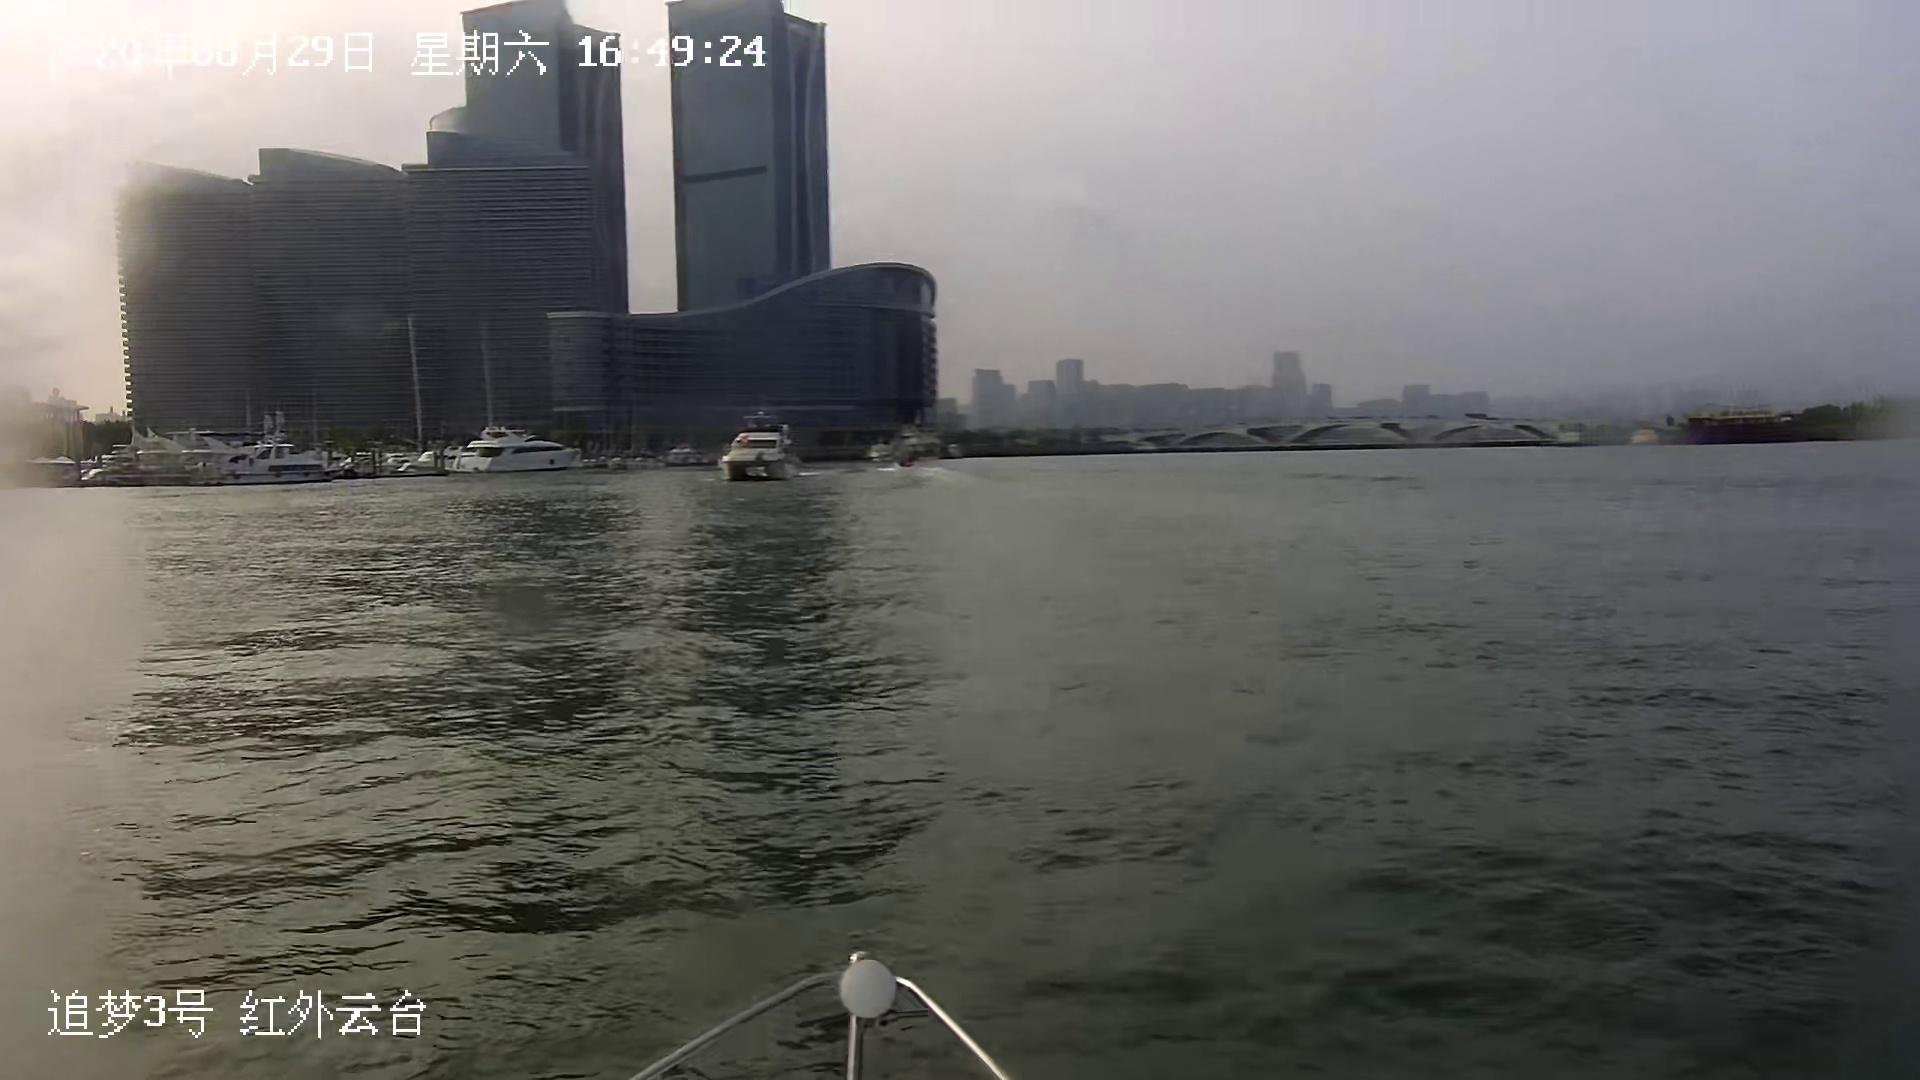barrier: (444, 431, 583, 473), (715, 413, 798, 479)
coast: (32, 1, 1920, 488)
